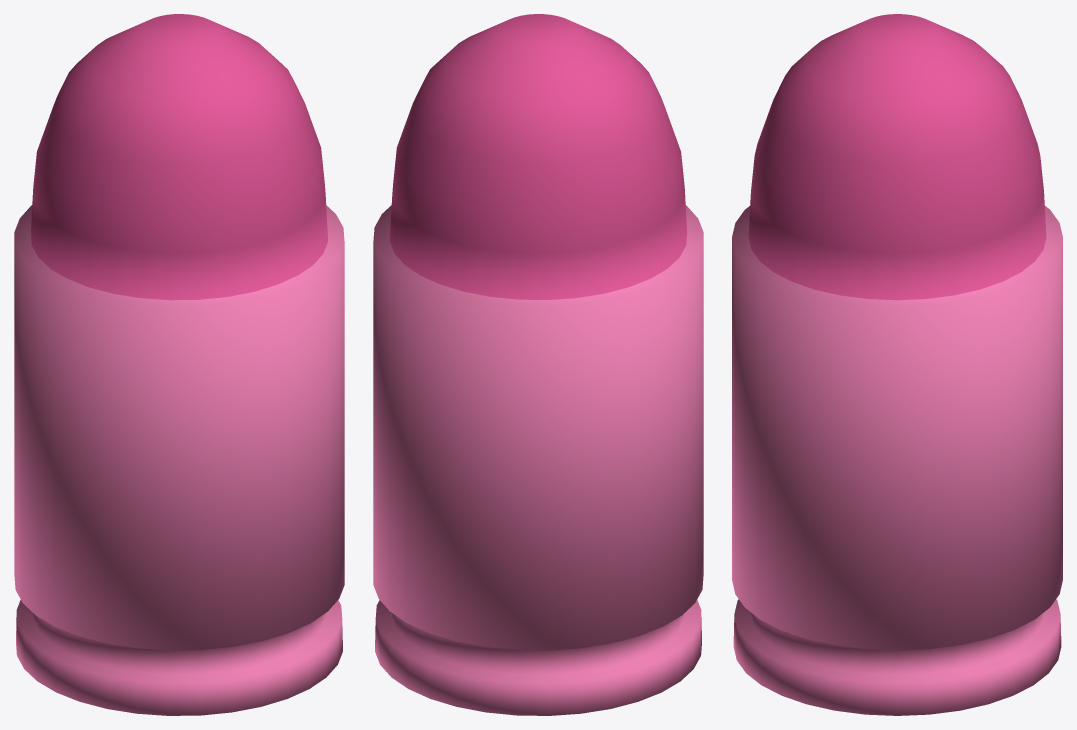
Rendered from Bullet_ae.fbx.
3 renders of one model, left to right at view 1: azimuth 30°, elevation 25°; view 2: azimuth 150°, elevation 25°; view 3: azimuth 270°, elevation 25°, orthographic.
Parts seen in each view (by area): view 1: Cone; view 2: Cone; view 3: Cone.
Boxes of the visible parts, x1=… form: Cone: x1=14, y1=14, x2=344, y2=715; Cone: x1=373, y1=14, x2=703, y2=715; Cone: x1=732, y1=14, x2=1062, y2=715.
Size of the model in its own units: 17.15 by 35.26 by 17.15.
